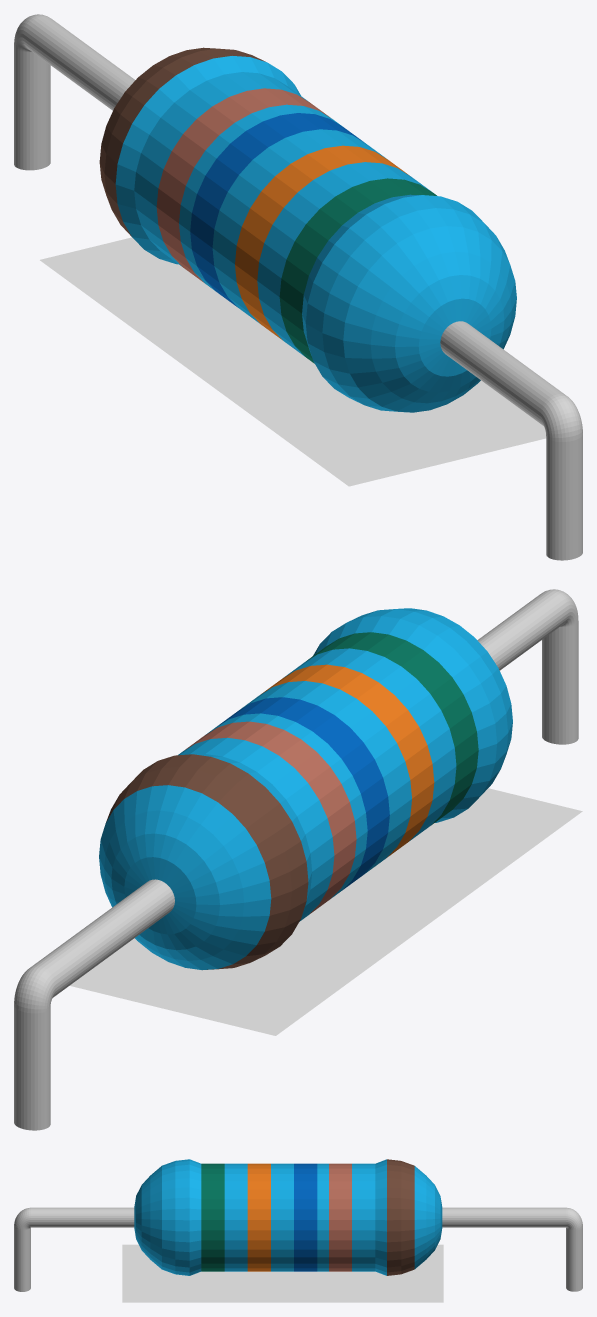
3 views of the same model, one above another, from view 1: azimuth 30°, elevation 25°; view 2: azimuth 150°, elevation 25°; view 3: azimuth 270°, elevation 25° (orthographic). The views are drawn at different scales.
Visible parts, largest first — view 1: R_1, R_1_plane; view 2: R_1, R_1_plane; view 3: R_1, R_1_plane.
Boxes of the visible parts, x1,y1,x2,y2 form: R_1: (14,14,582,560); R_1_plane: (40,237,546,486); R_1: (14,589,578,1130); R_1_plane: (70,788,582,1035); R_1: (14,1159,582,1291); R_1_plane: (122,1244,443,1302).
Bounding box in the file's own units: 0.0161 × 0.0159 × 0.0664.
